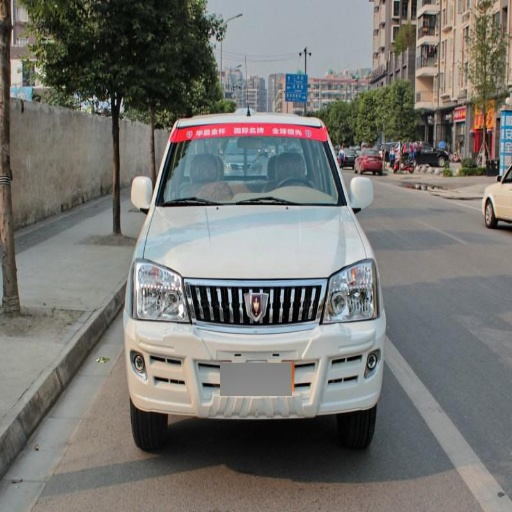front_bumper: (124, 277, 385, 410)
front_right_light: (131, 258, 189, 323)
hood: (145, 206, 359, 279)
